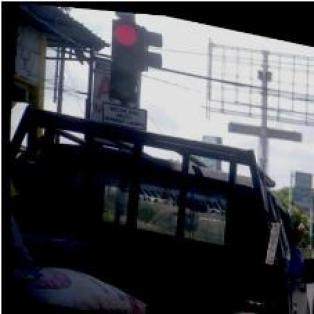Semaforo Rojo: (99, 11, 144, 100)
